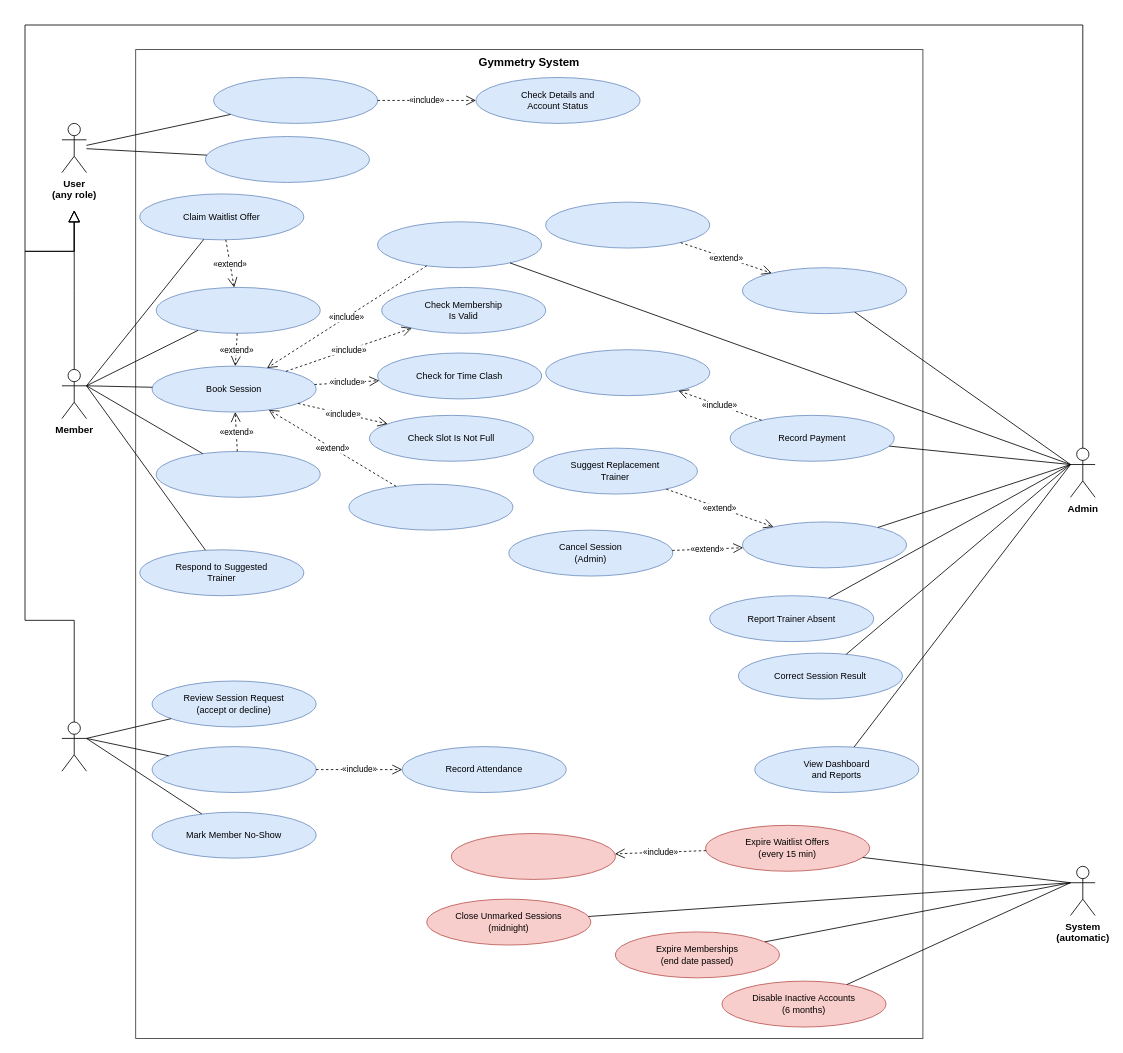
Some shapes in this 1123 by 1053 pixel diagram are drawn without their labels. Each missing label, with the centre of its shape:
Assign Membership Plan: point 627,224
Book Session for Member: point 459,244
Choose New Password (first login): point 287,159
Join Waitlist: point 237,310
Log In: point 295,100
Mark Session Completed: point 233,769
Offer Slot to Next Person in Waitlist: point 533,856
Register User: point 824,290
Reschedule or Cancel (48 h or more before): point 430,506
Review Declined Session: point 824,544
Start or Extend Membership: point 627,372
Trainer: point 74,746
View Alternative Options: point 237,474
